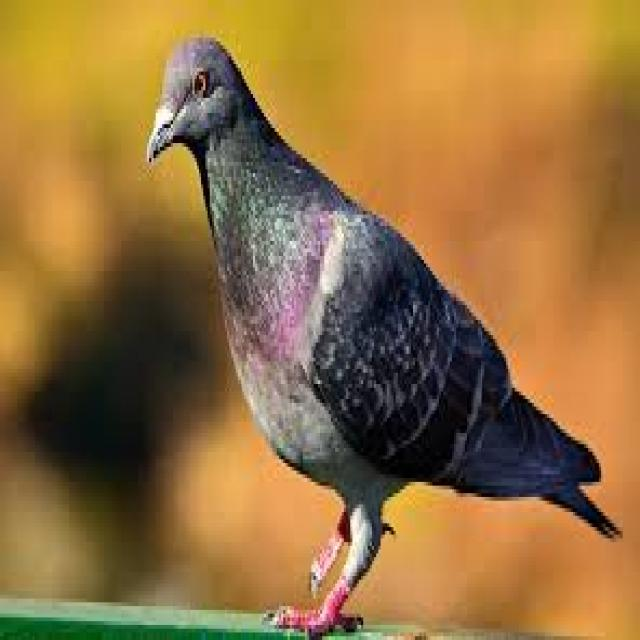pigeon: (138, 20, 612, 637)
